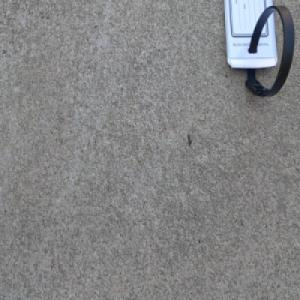LuggageTag: (221, 0, 296, 98)
